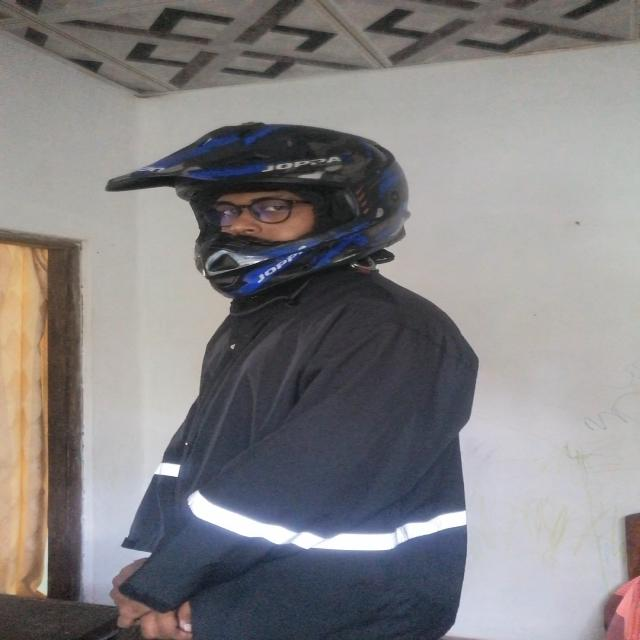Helmet_Wearer: (129, 111, 416, 282)
Jacket_Wearer: (141, 260, 481, 640)
Person: (70, 103, 480, 634)
